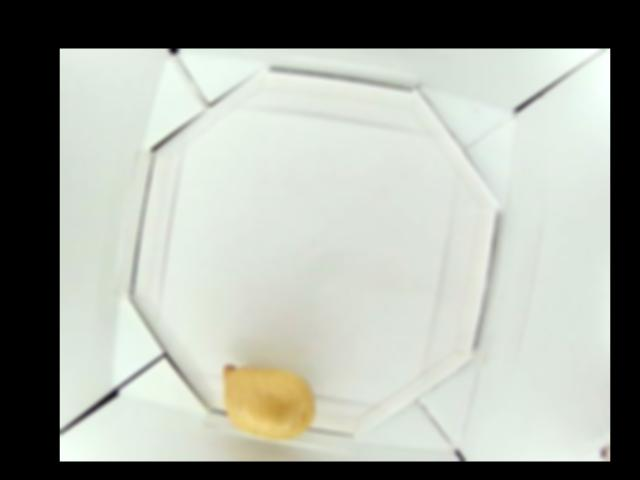Potato: (219, 360, 316, 446)
